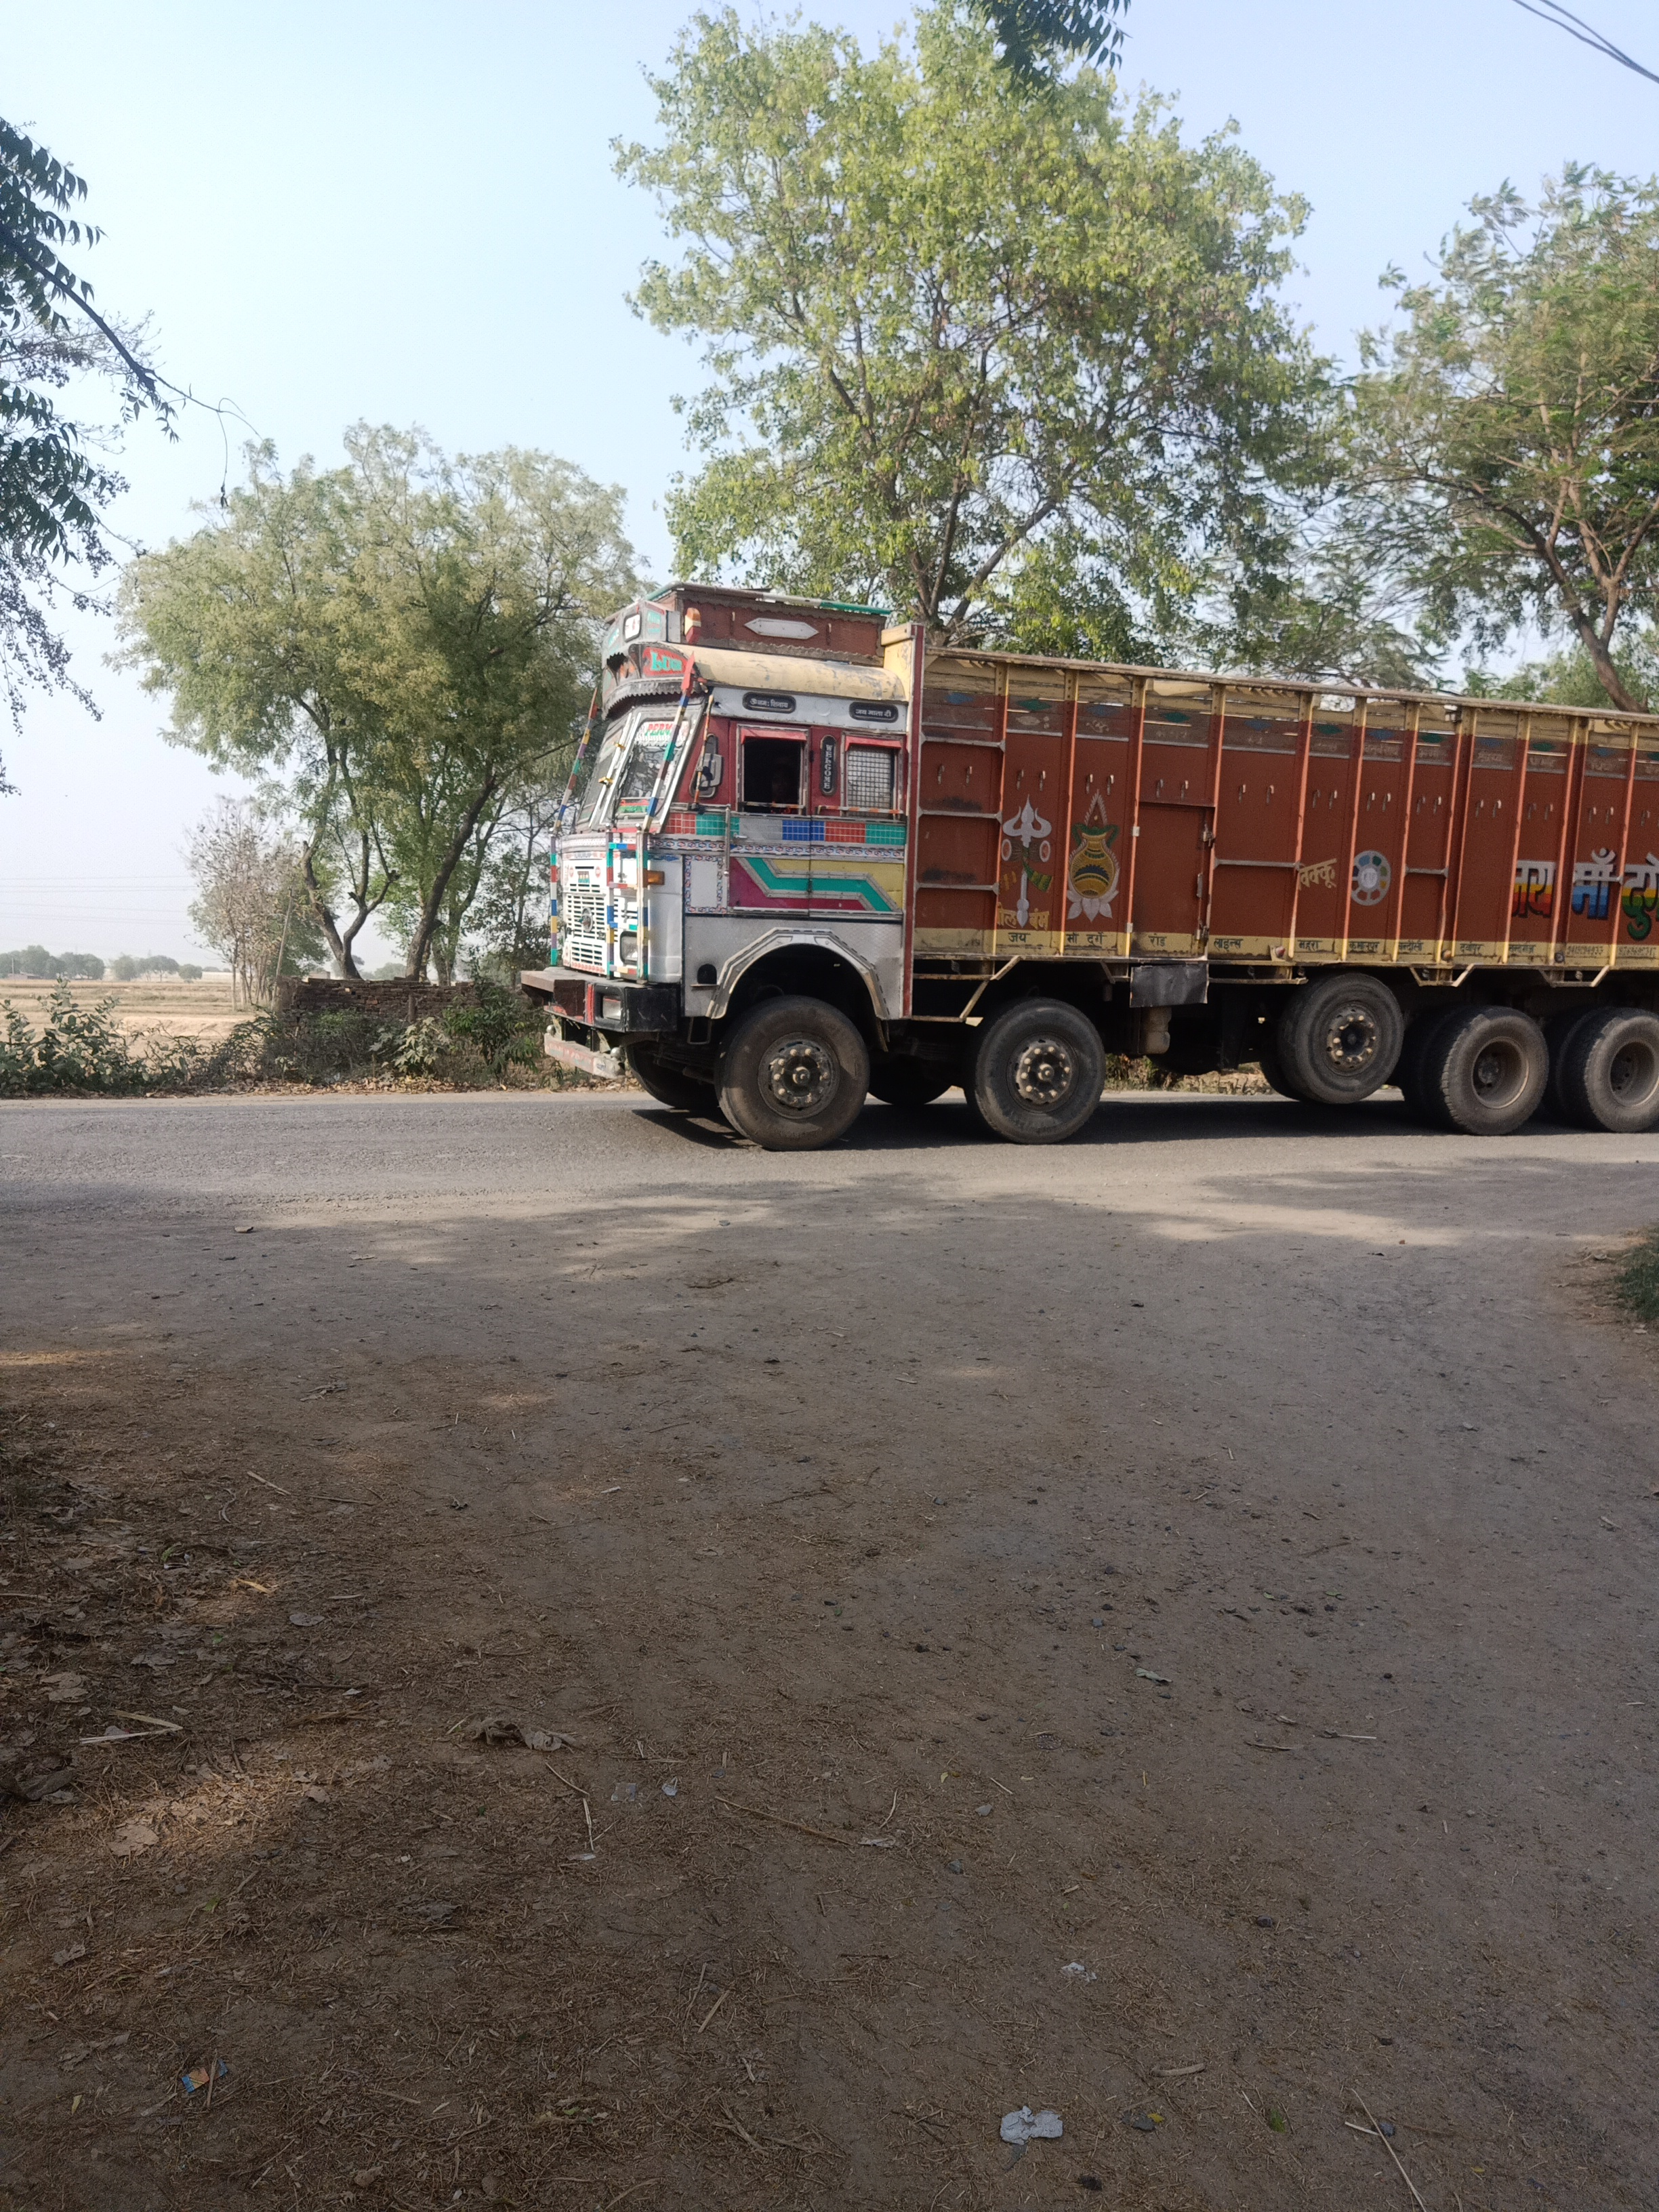truck: (518, 577, 1659, 1155)
